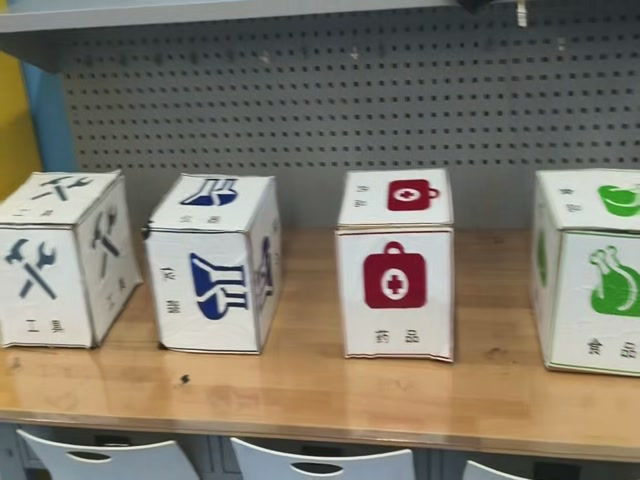Cube_food: (532, 172, 637, 236)
Cube_ins: (147, 176, 275, 235)
Cube_medicine: (338, 171, 455, 234)
Cube_tool: (1, 168, 118, 233)
